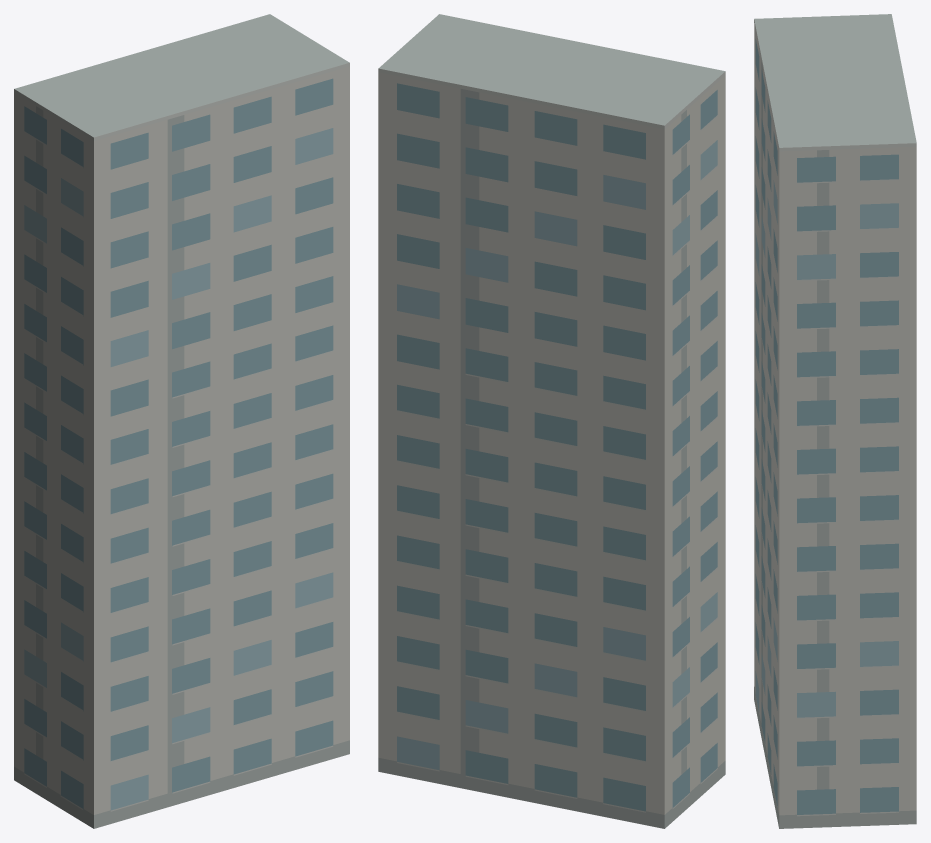
The model's file is residential-fb503388-3d3d-4ad1-b573-f9dea79d9e9d.glb.
The picture shows the model from 3 angles, left to right: view 1: azimuth 30°, elevation 25°; view 2: azimuth 150°, elevation 25°; view 3: azimuth 270°, elevation 25°; orthographic projection. The views are drawn at different scales.
Visible parts, largest first — view 1: residential-fb503388-3d3d-4ad1-b573-f9dea79d9e9d.tmp; view 2: residential-fb503388-3d3d-4ad1-b573-f9dea79d9e9d.tmp; view 3: residential-fb503388-3d3d-4ad1-b573-f9dea79d9e9d.tmp.
Part boxes in pixels (<box>): residential-fb503388-3d3d-4ad1-b573-f9dea79d9e9d.tmp: <box>14,14,349,828</box>; residential-fb503388-3d3d-4ad1-b573-f9dea79d9e9d.tmp: <box>378,14,725,828</box>; residential-fb503388-3d3d-4ad1-b573-f9dea79d9e9d.tmp: <box>754,14,916,828</box>.
Bounding box in the file's own units: 18.99 × 45 × 9.75.
